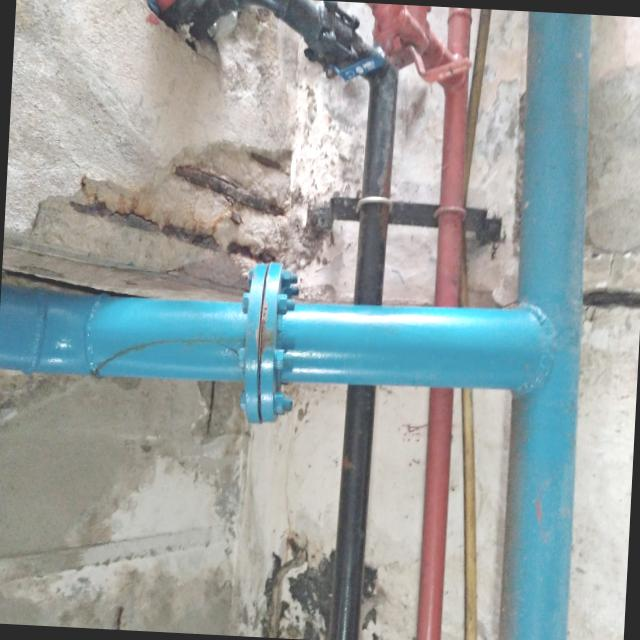gas: (503, 12, 592, 640), (0, 286, 527, 386), (353, 56, 402, 301), (438, 6, 474, 300), (331, 386, 372, 640), (416, 388, 452, 640)
